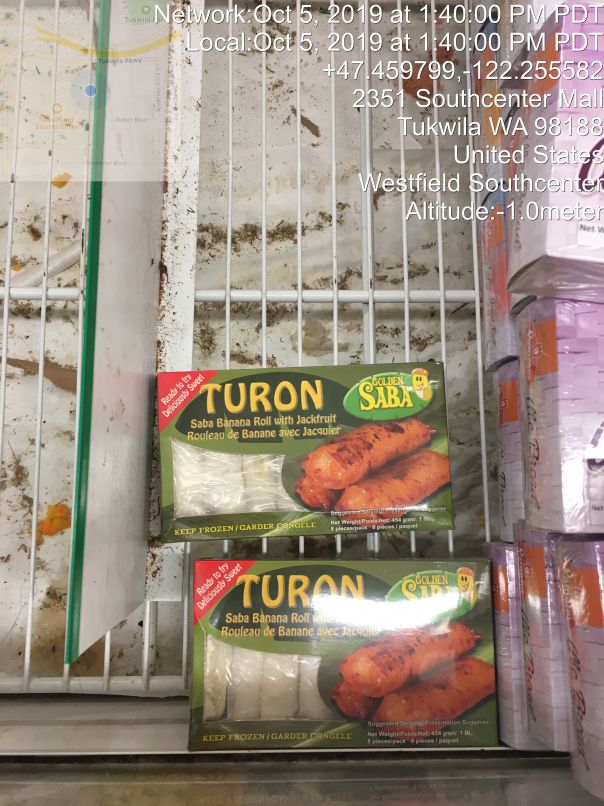Golden Saba: (138, 350, 473, 552), (169, 549, 504, 751)
Location: (346, 79, 604, 196)
Time: (149, 1, 604, 61)
